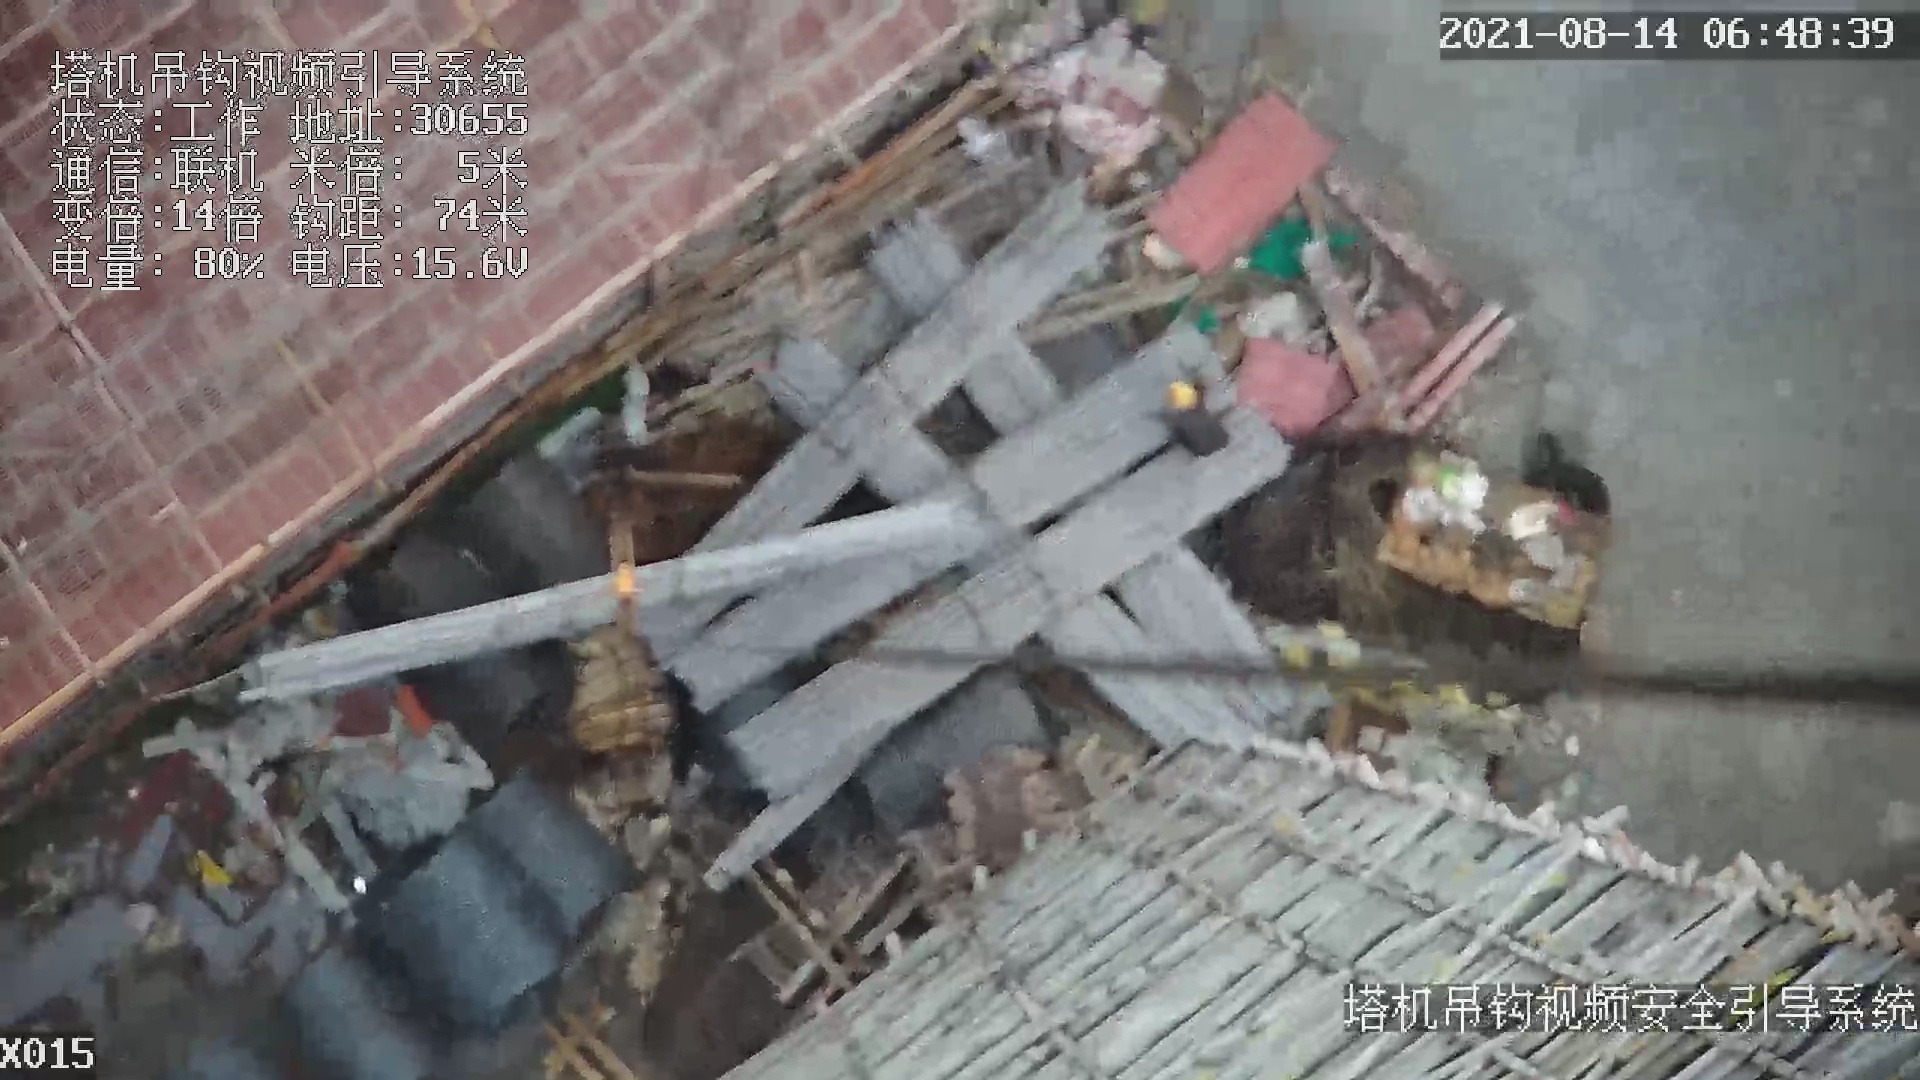helmet: (1166, 380, 1195, 412)
hook: (597, 505, 647, 656)
person: (1156, 368, 1236, 456)
